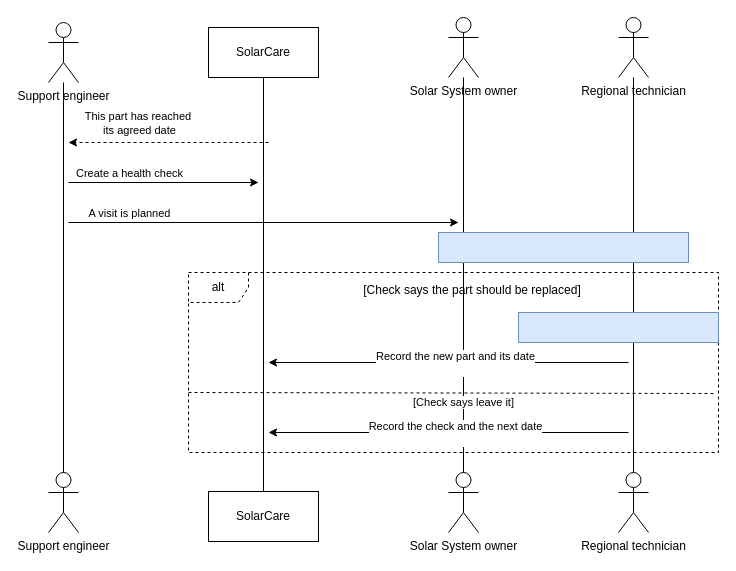
The diagram is 736 pixels wide and 571 high, and some of its shapes have lost their labels. The shapes that lost their labels are listed below. From the top down, each one's box as (x1, y1, x2, y2) in pixels, then its label:
(438, 232, 688, 262): Regional technician visits and checks the part
(518, 312, 718, 342): Regional technician replaces the part
